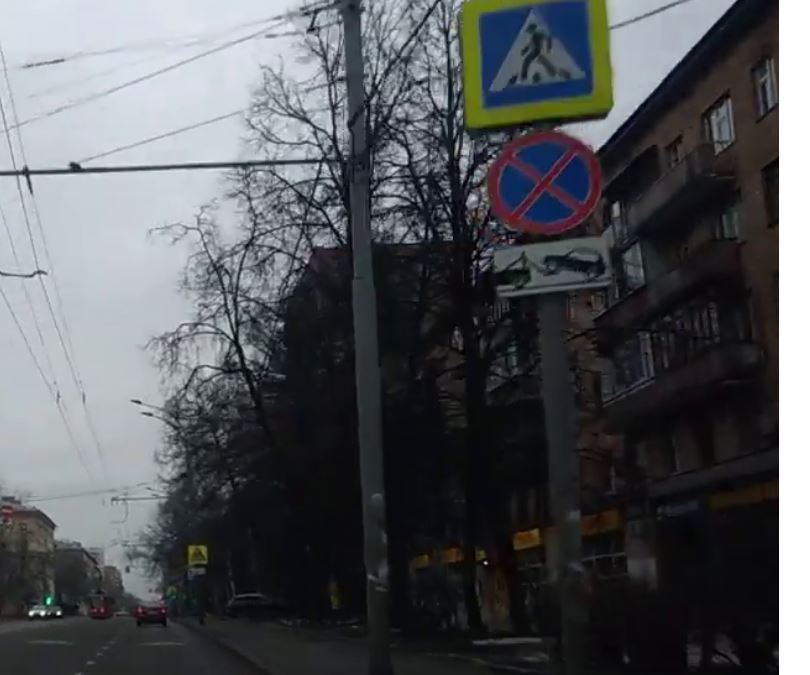Yaya Gecidi: (486, 5, 594, 101)
